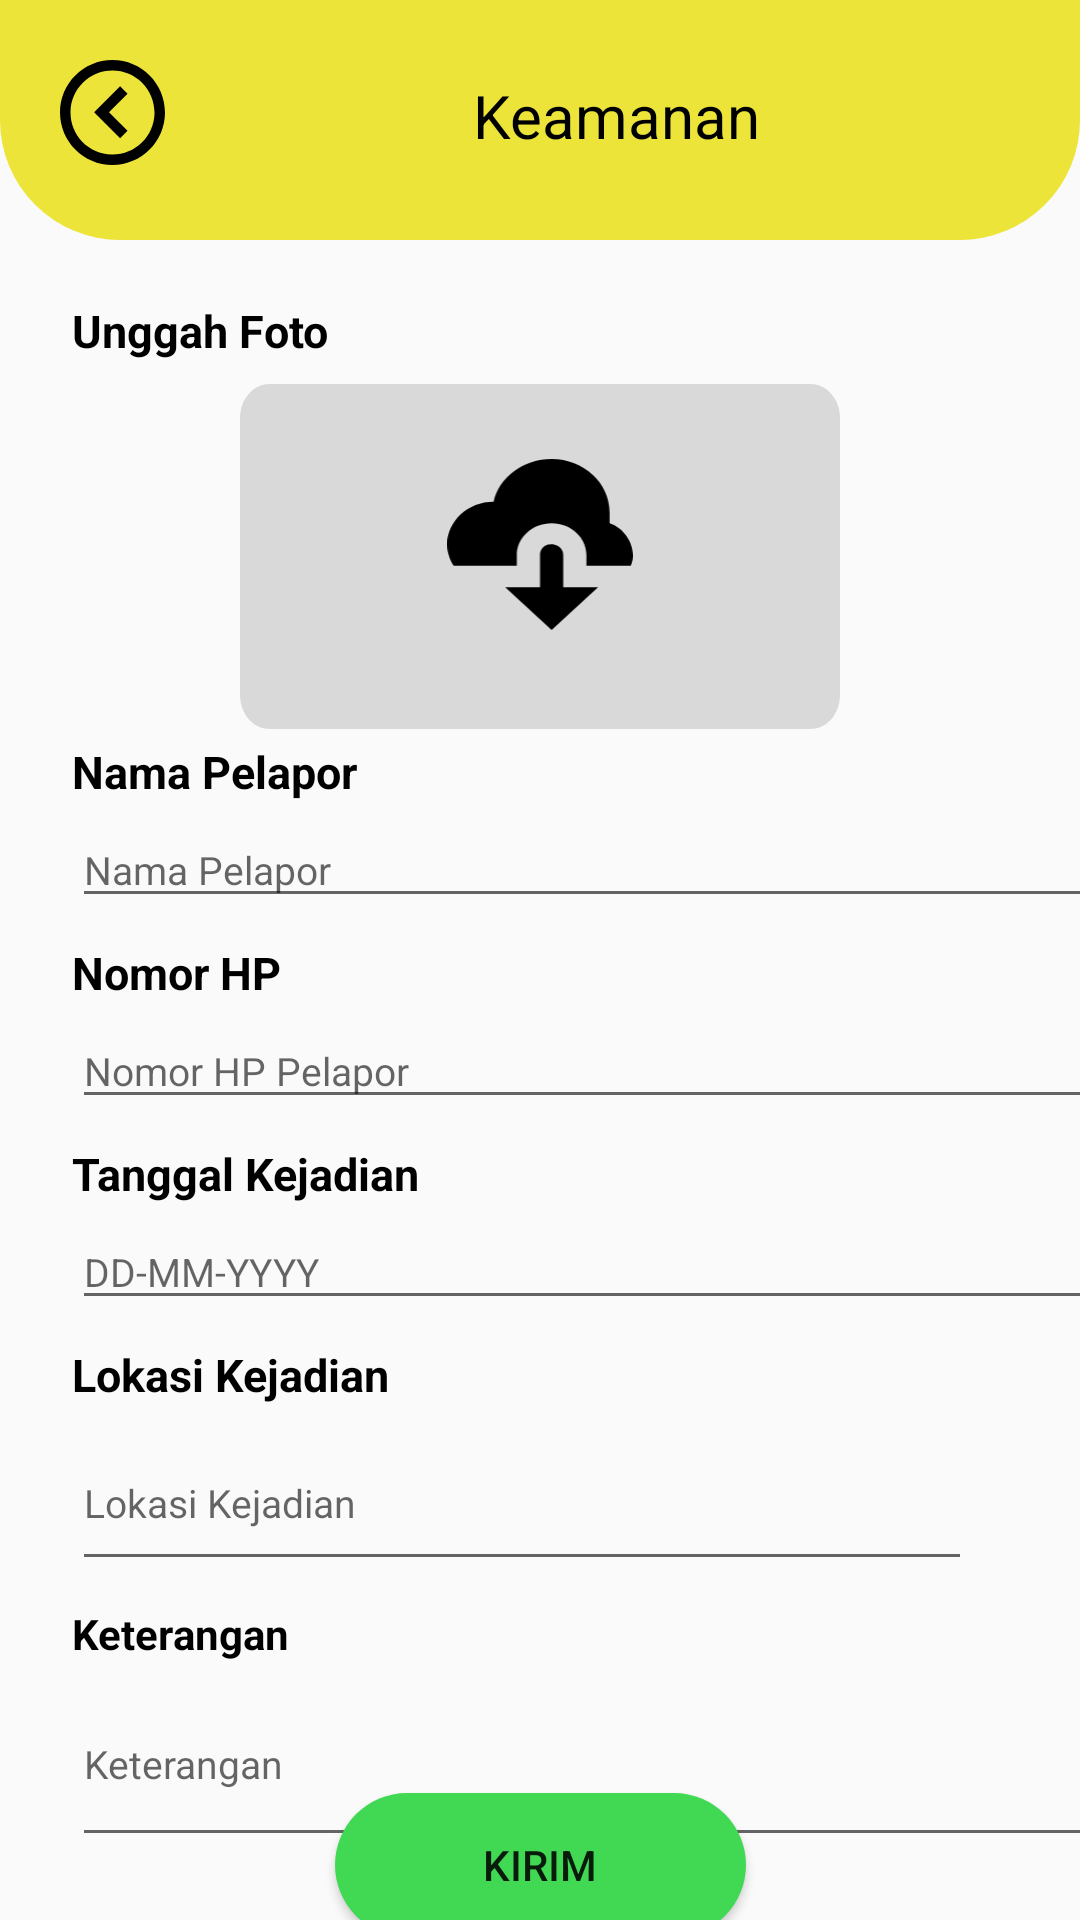

Locate icon controls on the screen. Image size 1080 × 1920, boxes as bbox(x1, y1, x2, y2).
cloud download: bbox(447, 459, 633, 630)
